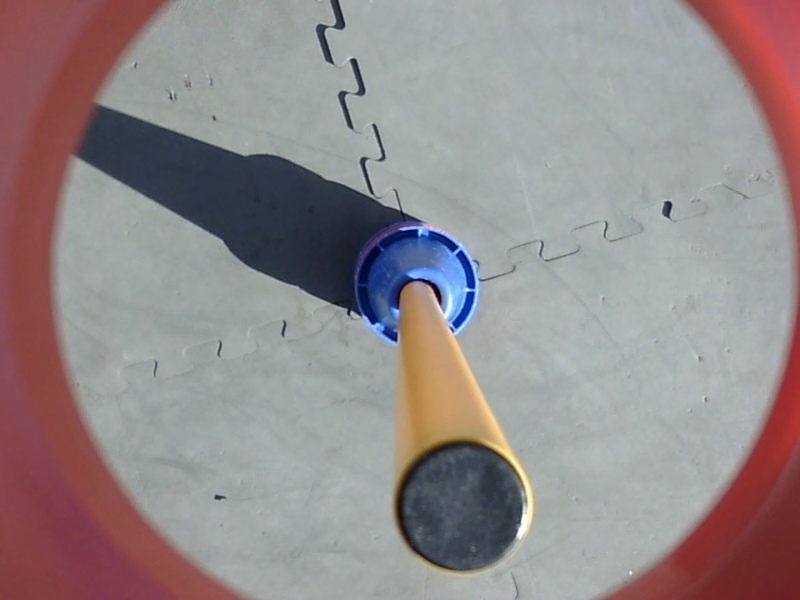tip: (388, 432, 541, 580)
